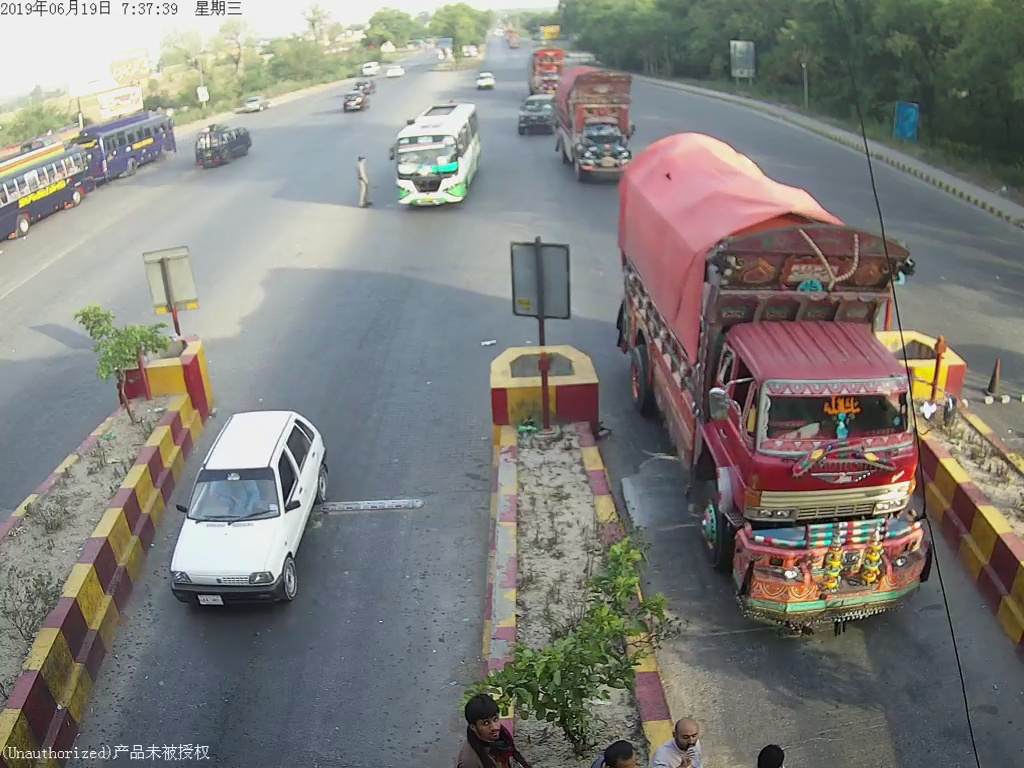Cat-1: (171, 399, 330, 606), (519, 95, 555, 136)
Cat-3: (395, 95, 485, 205)
Cat-4: (629, 146, 931, 612), (557, 63, 643, 181), (516, 43, 572, 96)
